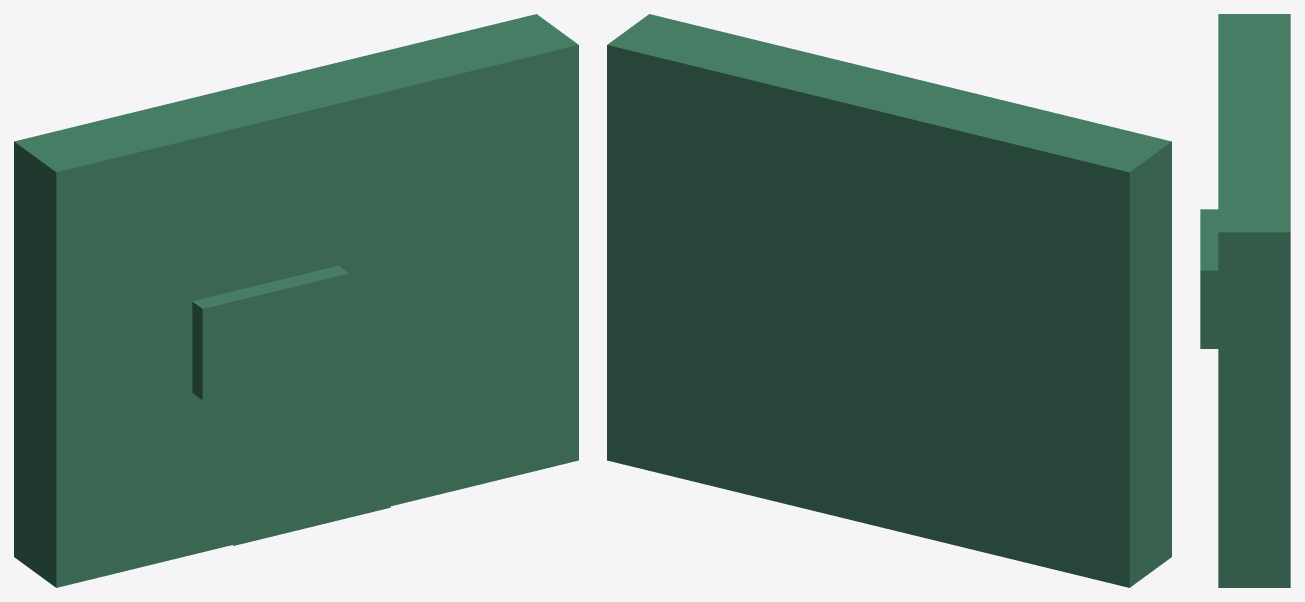
3 views of the same model, side by side, from view 1: azimuth 30°, elevation 25°; view 2: azimuth 150°, elevation 25°; view 3: azimuth 270°, elevation 25° (orthographic). The views are drawn at different scales.
Bounding box in the file's own units: 25 × 19.3 × 4.38.
